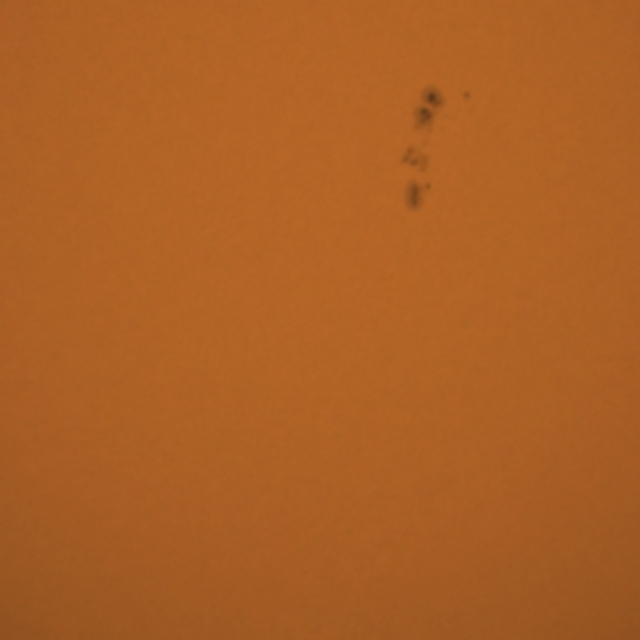sunspot: (419, 86, 475, 117), (412, 85, 446, 132), (400, 138, 432, 176), (404, 180, 434, 214), (460, 89, 473, 103)
